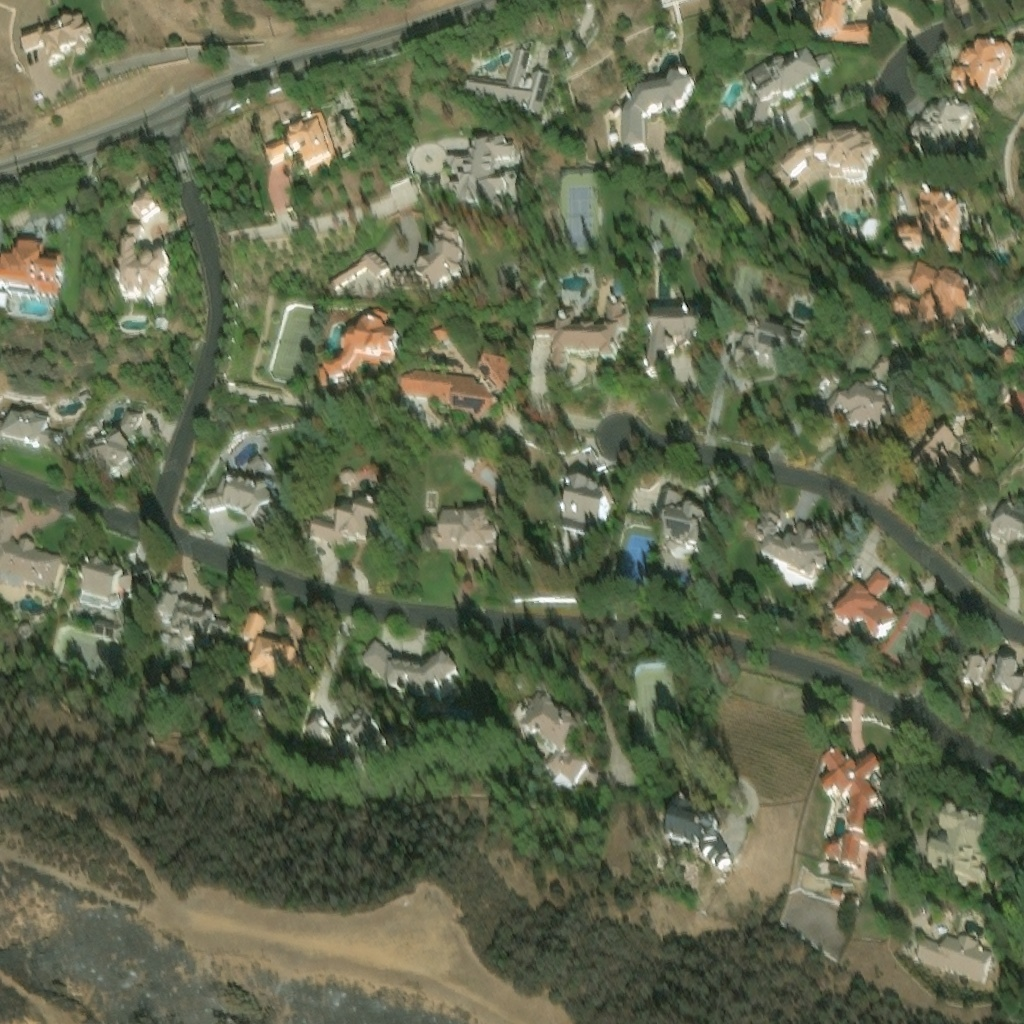0 no-damage: (399, 349, 511, 422), (532, 291, 625, 372), (463, 47, 555, 128), (818, 748, 882, 861), (742, 49, 824, 133), (516, 690, 591, 780), (18, 10, 95, 97), (889, 261, 976, 337), (318, 305, 399, 385), (239, 610, 318, 689), (621, 72, 696, 150), (357, 634, 461, 690), (650, 487, 712, 579), (0, 508, 66, 591), (452, 134, 524, 210), (829, 562, 897, 637), (819, 373, 899, 436), (664, 797, 732, 871), (265, 111, 340, 178), (927, 808, 989, 889), (749, 514, 827, 577), (201, 472, 280, 534), (304, 712, 381, 773), (387, 222, 461, 285), (87, 402, 143, 479), (912, 931, 992, 984), (157, 595, 235, 649), (118, 226, 176, 298), (642, 301, 699, 374), (421, 503, 498, 557), (900, 197, 971, 254), (782, 140, 877, 182), (77, 557, 152, 608), (306, 497, 384, 546), (908, 423, 965, 490), (954, 46, 1018, 104), (913, 108, 978, 163), (732, 316, 803, 365), (0, 243, 62, 297), (327, 238, 387, 293), (0, 404, 61, 451), (560, 476, 612, 528), (816, 0, 873, 46), (984, 496, 1023, 546), (989, 655, 1023, 708), (563, 441, 597, 469), (1001, 378, 1023, 413), (960, 650, 984, 682), (129, 196, 158, 221), (154, 589, 179, 617), (164, 571, 187, 596), (818, 56, 837, 75), (1002, 346, 1020, 364), (820, 837, 838, 854), (612, 272, 628, 290), (430, 319, 446, 336), (153, 315, 168, 329), (829, 885, 841, 899), (847, 890, 857, 900), (0, 288, 6, 304)
